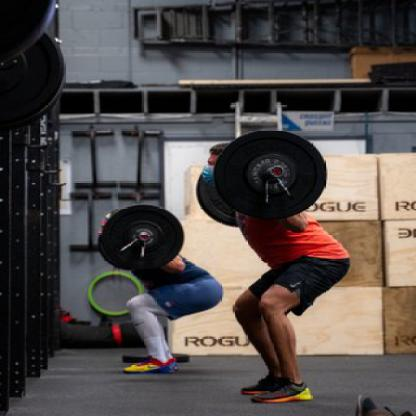Barbell: (211, 123, 333, 224)
